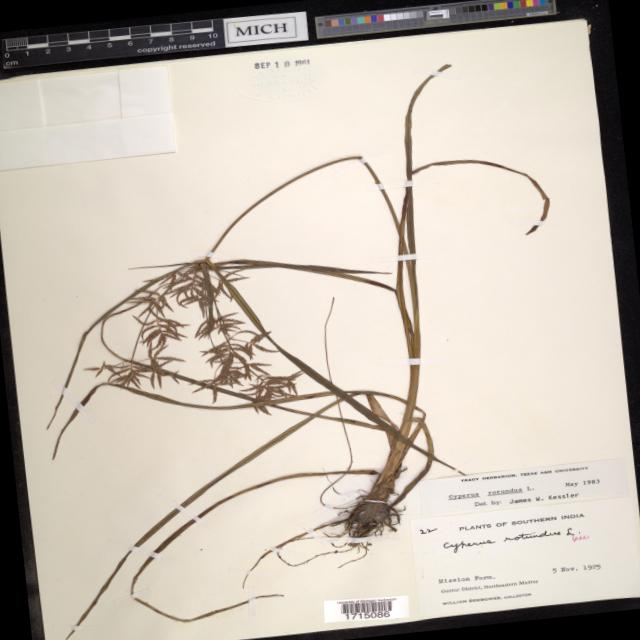cyperus: (64, 248, 308, 436)
